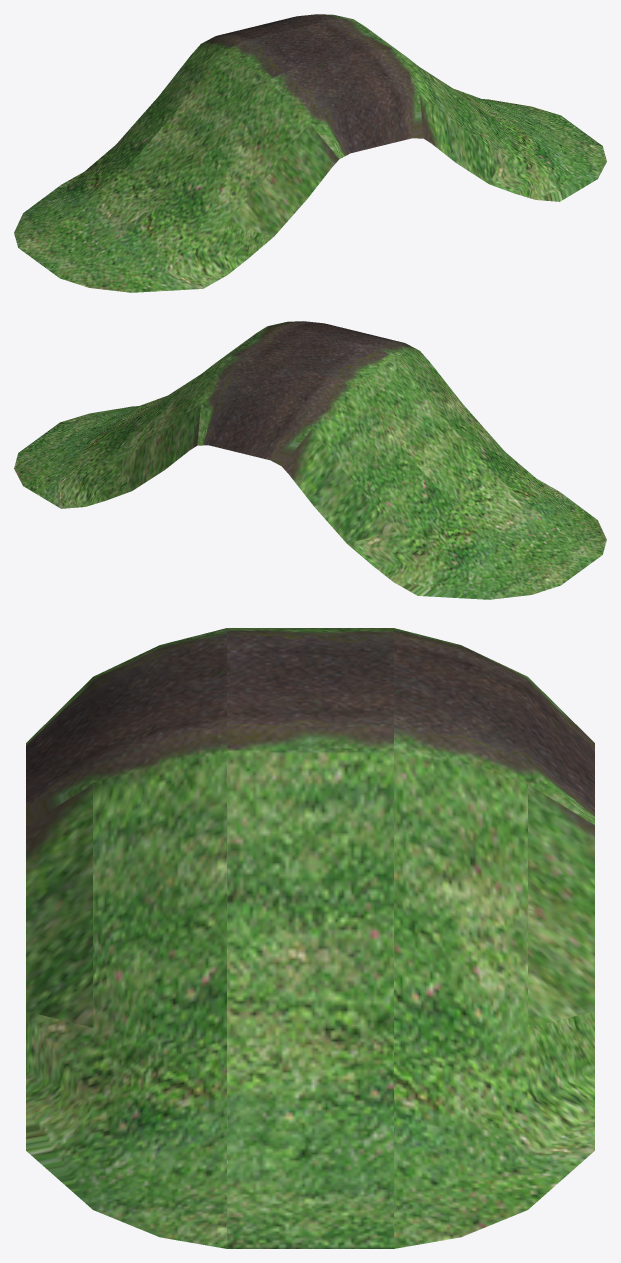
Rendered from 1nasip_5_TSM.gltf.
3 views of the same model, one above another, from view 1: azimuth 30°, elevation 25°; view 2: azimuth 150°, elevation 25°; view 3: azimuth 270°, elevation 25° (orthographic). The views are drawn at different scales.
Bounding box in the file's own units: 37.47 × 10.02 × 17.
Materials: 1 (1 with a texture image).
